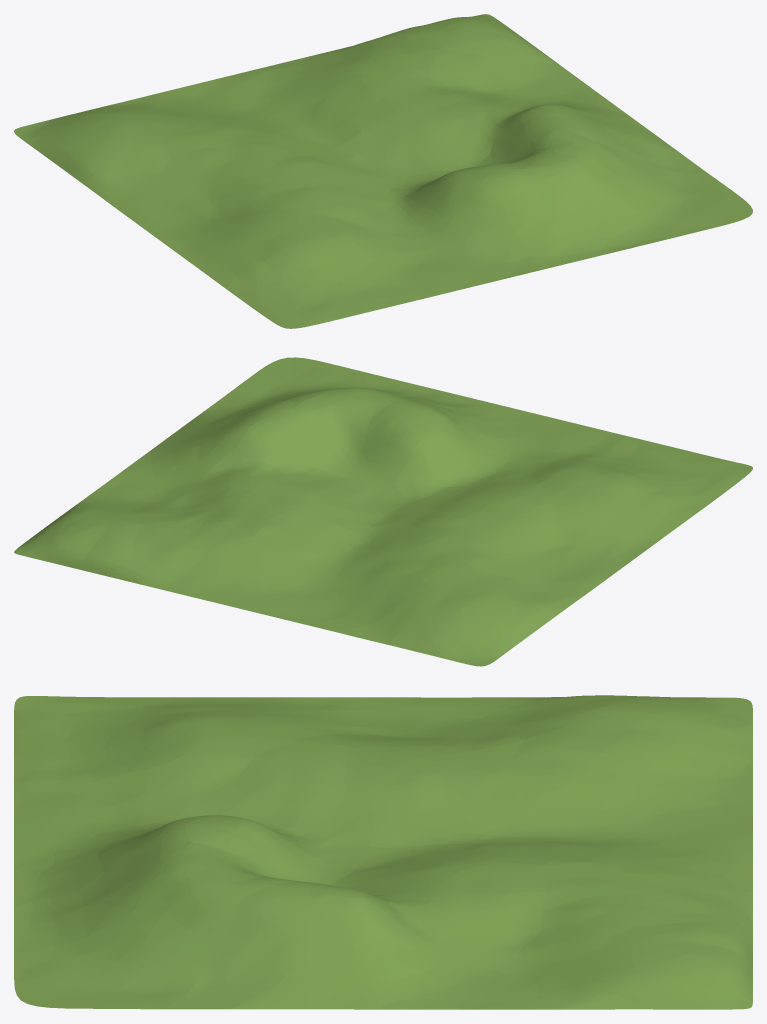
The model's file is Terrain.fbx.
The picture shows the model from 3 angles, top to bottom: view 1: azimuth 30°, elevation 25°; view 2: azimuth 150°, elevation 25°; view 3: azimuth 270°, elevation 25°; orthographic projection. The views are drawn at different scales.
Visible parts, largest first — view 1: Terrain_2; view 2: Terrain_2; view 3: Terrain_2.
Boxes of the visible parts, bbox=[...] form: Terrain_2: bbox=[14, 14, 752, 328]; Terrain_2: bbox=[14, 357, 752, 666]; Terrain_2: bbox=[14, 695, 752, 1009].
Bounding box in the file's own units: 2000 × 168 × 2000.
